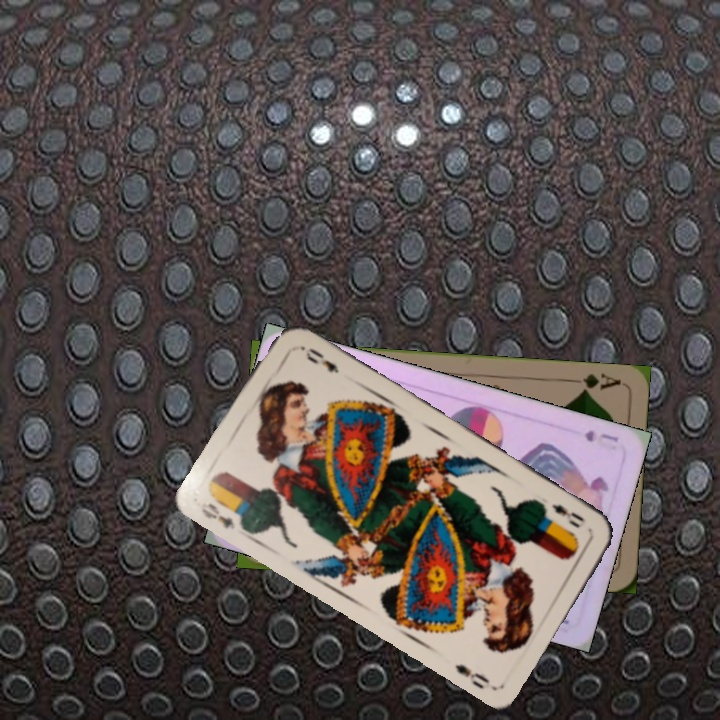EO: (196, 498, 238, 532), (548, 499, 589, 531)
GA: (564, 370, 624, 396)
SU: (580, 426, 621, 446)
